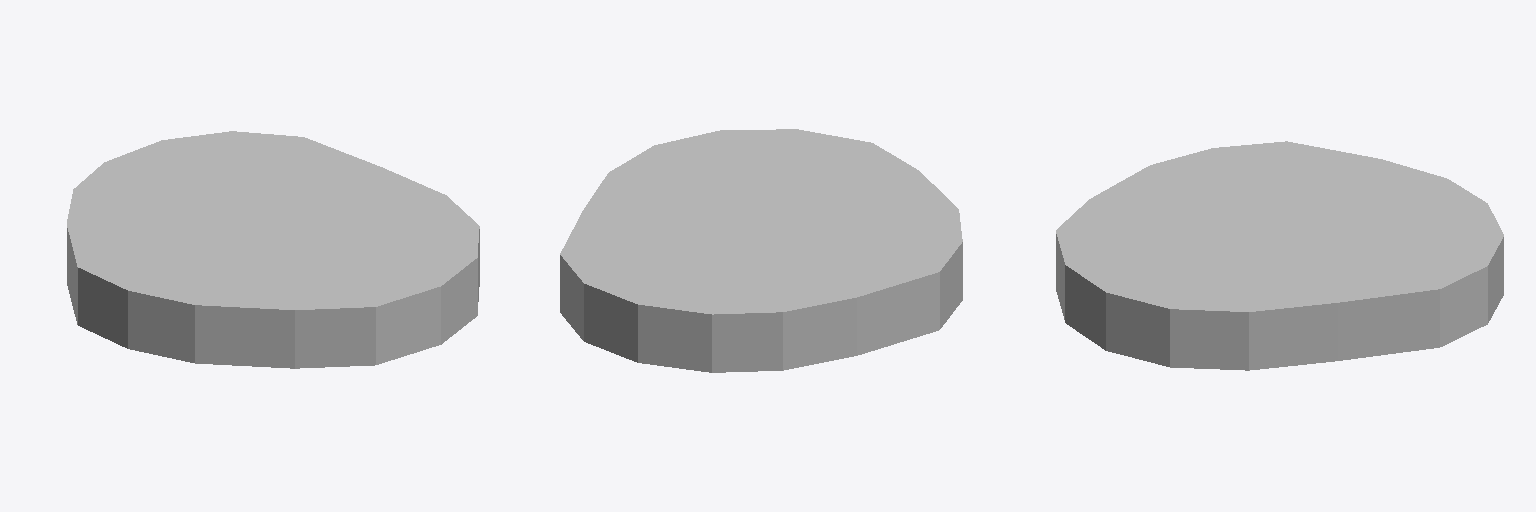
Rendered from FloorRock2.obj.
3 renders of one model, left to right at view 1: azimuth 30°, elevation 25°; view 2: azimuth 150°, elevation 25°; view 3: azimuth 270°, elevation 25°, orthographic.
Parts seen in each view (by area): view 1: Circle.001; view 2: Circle.001; view 3: Circle.001.
Part boxes in pixels (left/top/right/bottom): Circle.001: left=67, top=131, right=479, bottom=368; Circle.001: left=560, top=129, right=962, bottom=372; Circle.001: left=1056, top=141, right=1503, bottom=370.
Size of the model in its own units: 6.27 by 1 by 6.96.